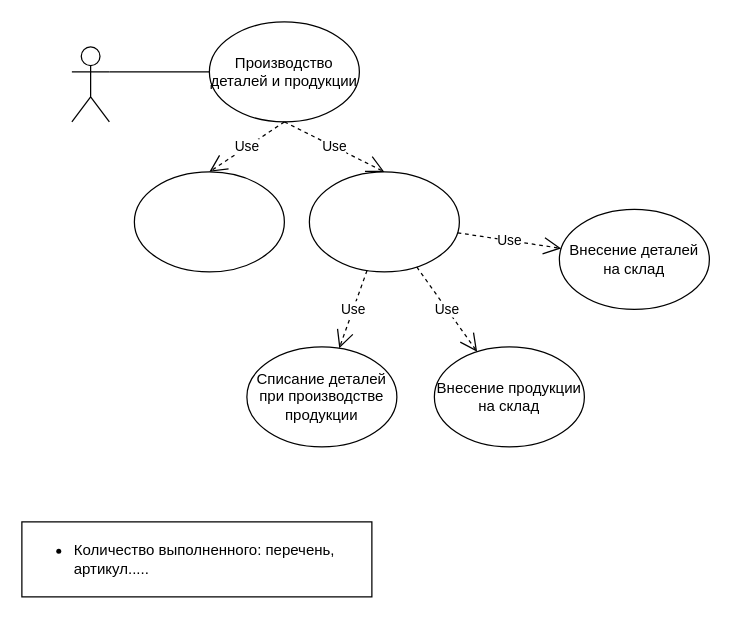
The diagram is 731 pixels wide and 619 high, and some of its shapes have lost their labels. The shapes that lost their labels are listed below. From the top down, each one's box as (x1, y1, x2, y2) in pixels, then its label:
(71, 46, 109, 122): Производство
(133, 171, 284, 272): Просмотр задач
(308, 171, 459, 272): Фиксация выполнения
